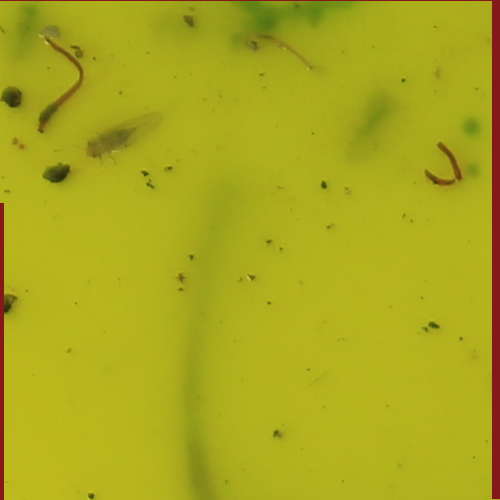Glycaspis: (85, 122, 139, 159)
